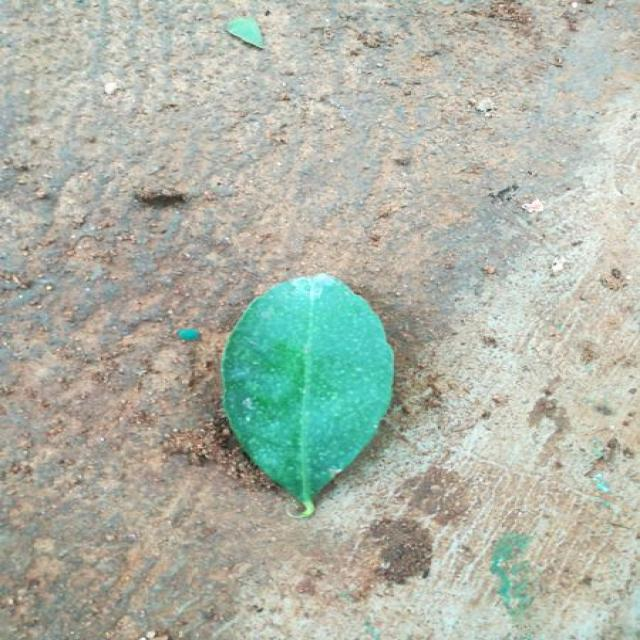citron lime: (222, 274, 393, 517)
